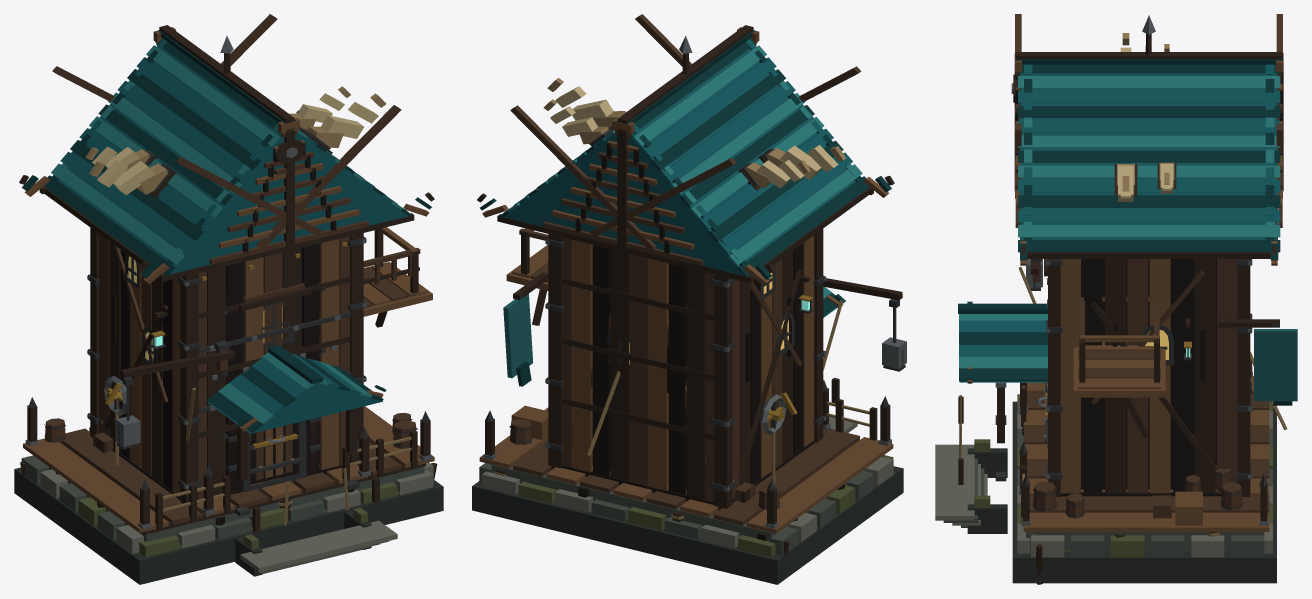
Rendered from fenbridge_warden_gatehouse.glb.
3 views of the same model, side by side, from view 1: azimuth 30°, elevation 25°; view 2: azimuth 150°, elevation 25°; view 3: azimuth 270°, elevation 25° (orthographic). The views are drawn at different scales.
Visible parts, largest first — view 1: FenbridgeWardenGatehouse_FenbridgeOpaque; view 2: FenbridgeWardenGatehouse_FenbridgeOpaque; view 3: FenbridgeWardenGatehouse_FenbridgeOpaque.
Boxes of the visible parts, x1,y1,x2,y2 form: FenbridgeWardenGatehouse_FenbridgeOpaque: (14,14,443,584); FenbridgeWardenGatehouse_FenbridgeOpaque: (472,14,906,584); FenbridgeWardenGatehouse_FenbridgeOpaque: (935,14,1297,584).
Size of the model in its own units: 7.8 by 10.5 by 7.
